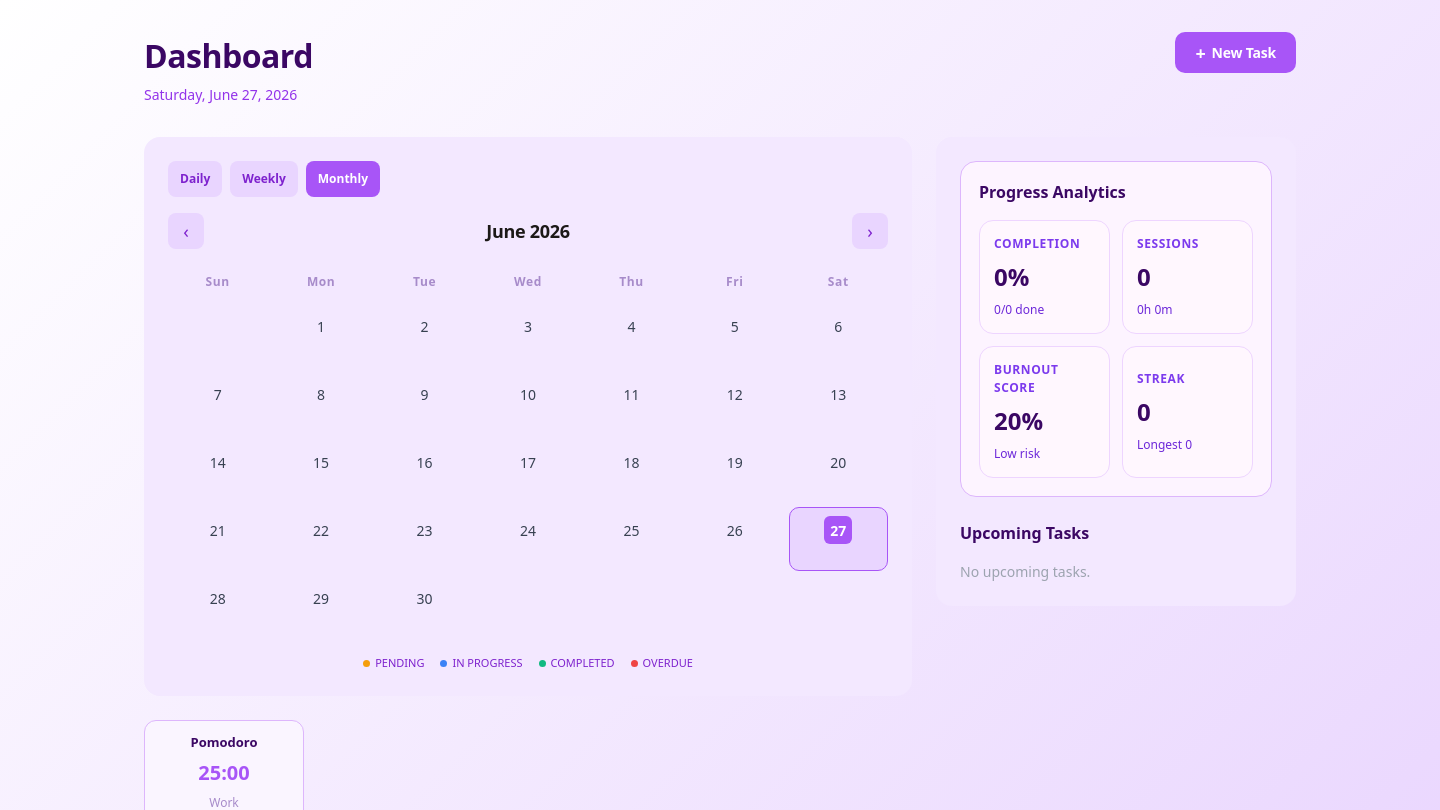
Test: DashboardCalendar › shows validation error when creating a new task without a title
This screenshot has width=1440, height=810.
Click the button "+ New Task": (1236, 52) [1175,32,1296,73]
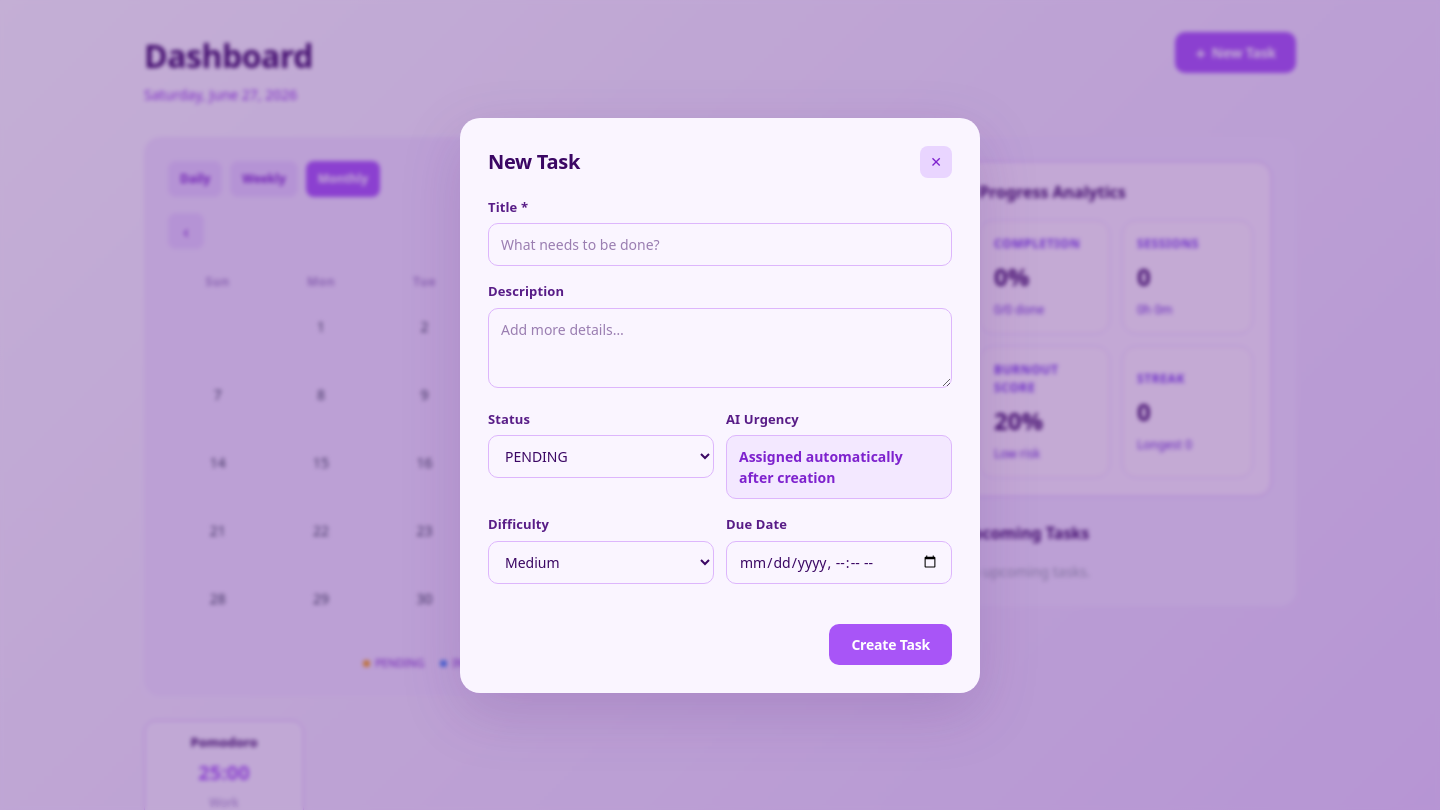
Click the button "Create Task": (891, 644) [829,624,952,664]
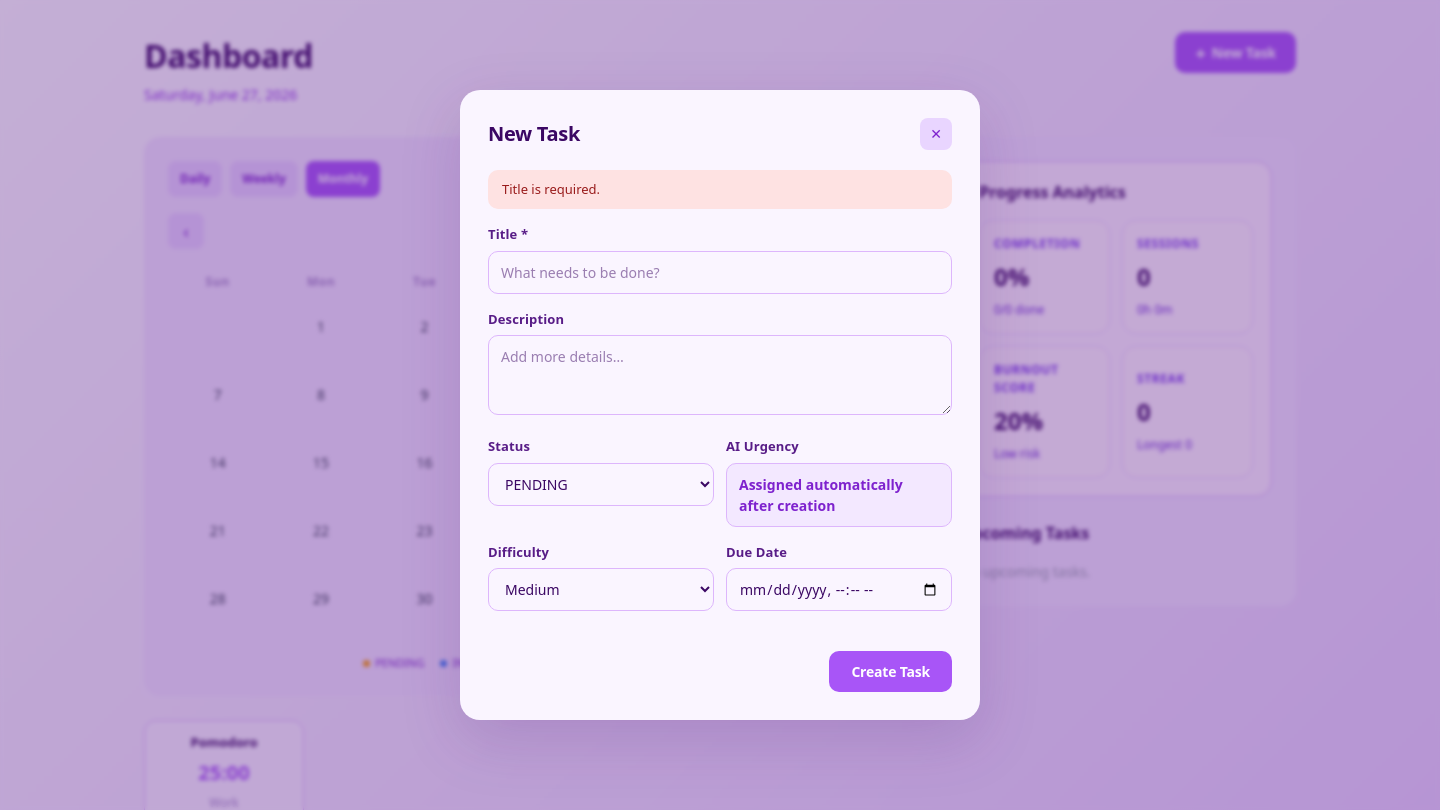
Expected: the field with placeholder "What needs to be done?" is shown, [488,251,952,294]
Expected: the text "Title is required." is shown, [488,170,952,209]
